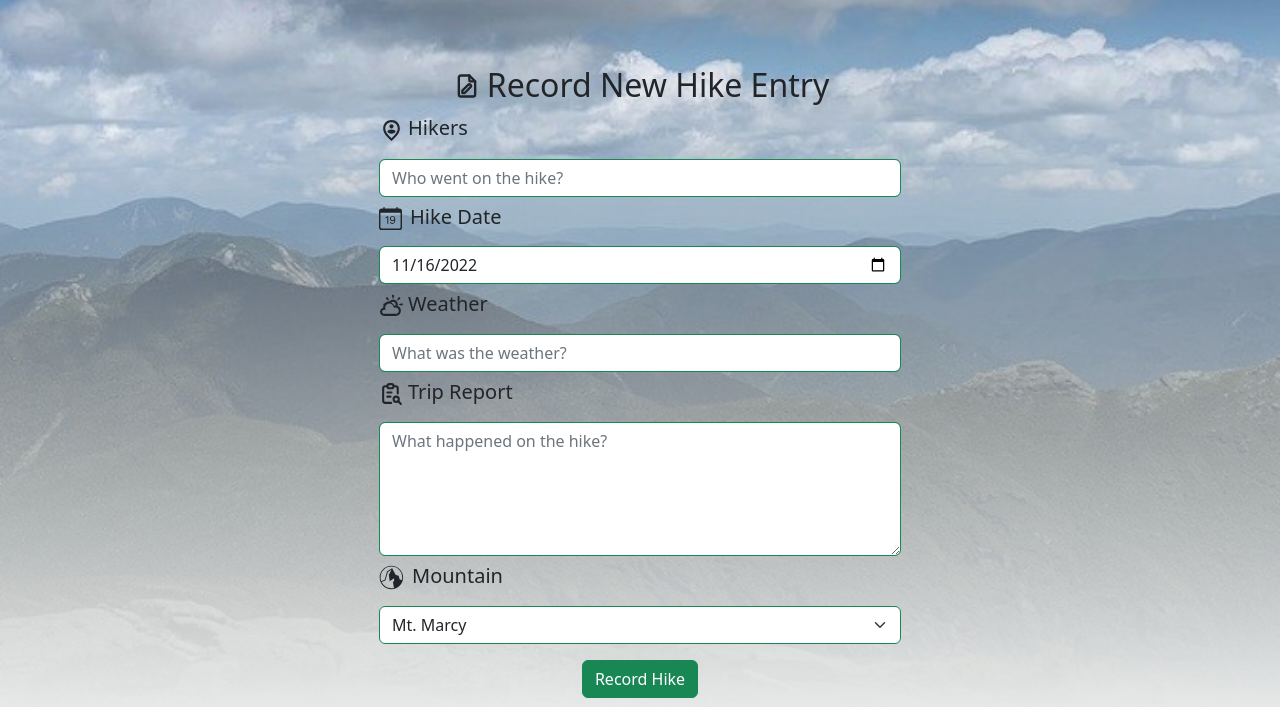
Scenario: RecordHike component testing › should alert the user that trip report is required to submit if input is empty
The image size is (1280, 707).
Type "Jason" into the field with placeholder "Who went on the hike?" at (640, 178), box [379,159,901,197]
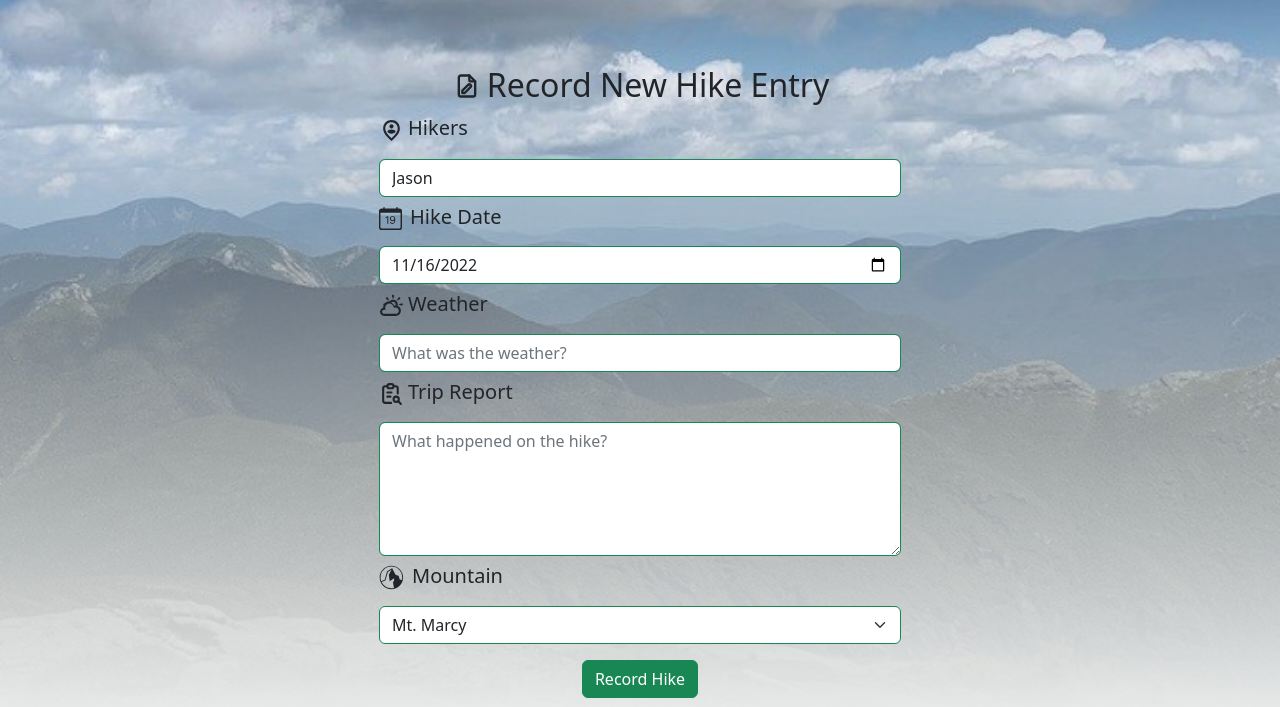
Type "2022-10-10" into the date field labelled "Hike Date" at (640, 265), box [379,246,901,284]
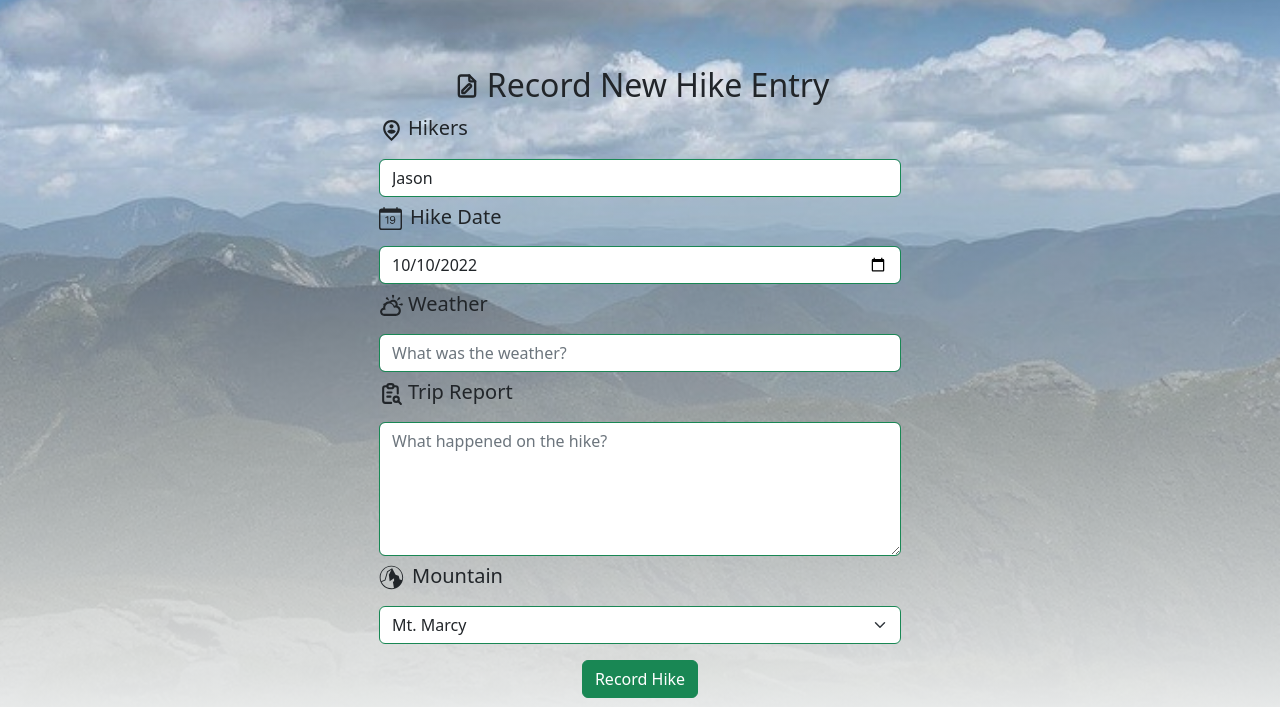
Type "Sunny" into the field with placeholder "What was the weather?" at (640, 353), box [379,334,901,372]
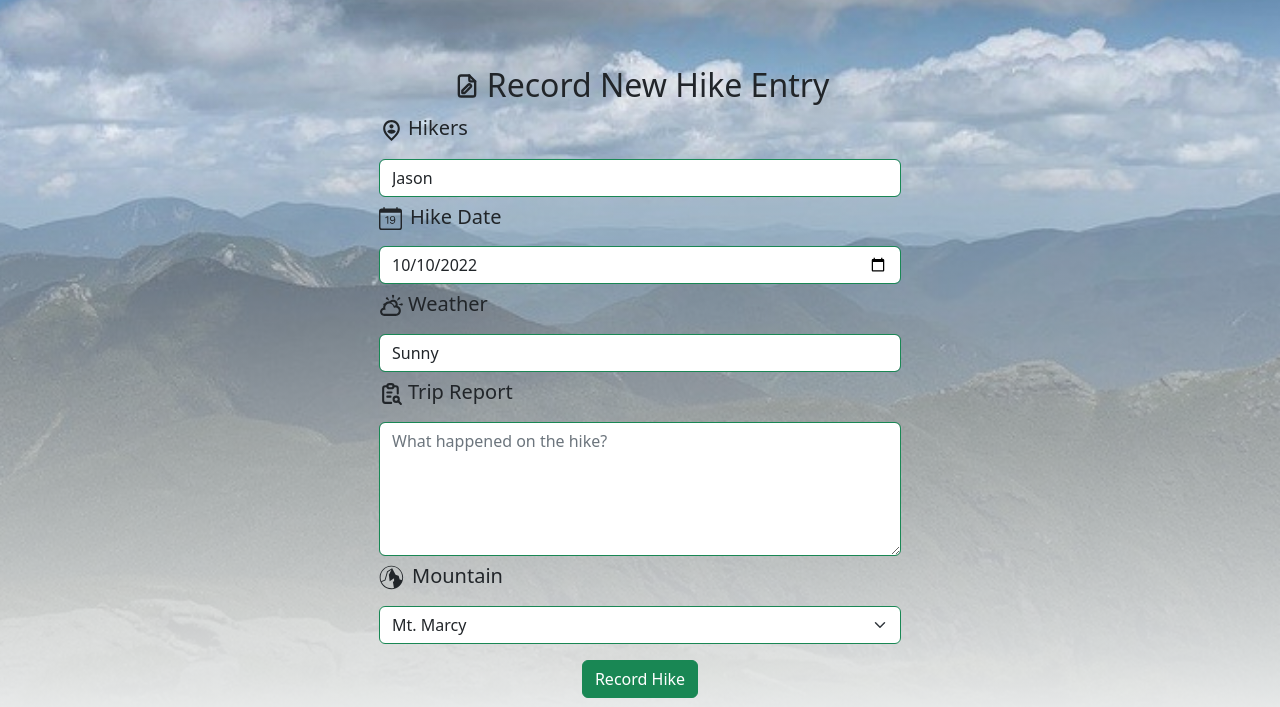
Click the button "Record Hike" at (640, 679), box [582,660,698,698]
(page scrolled)
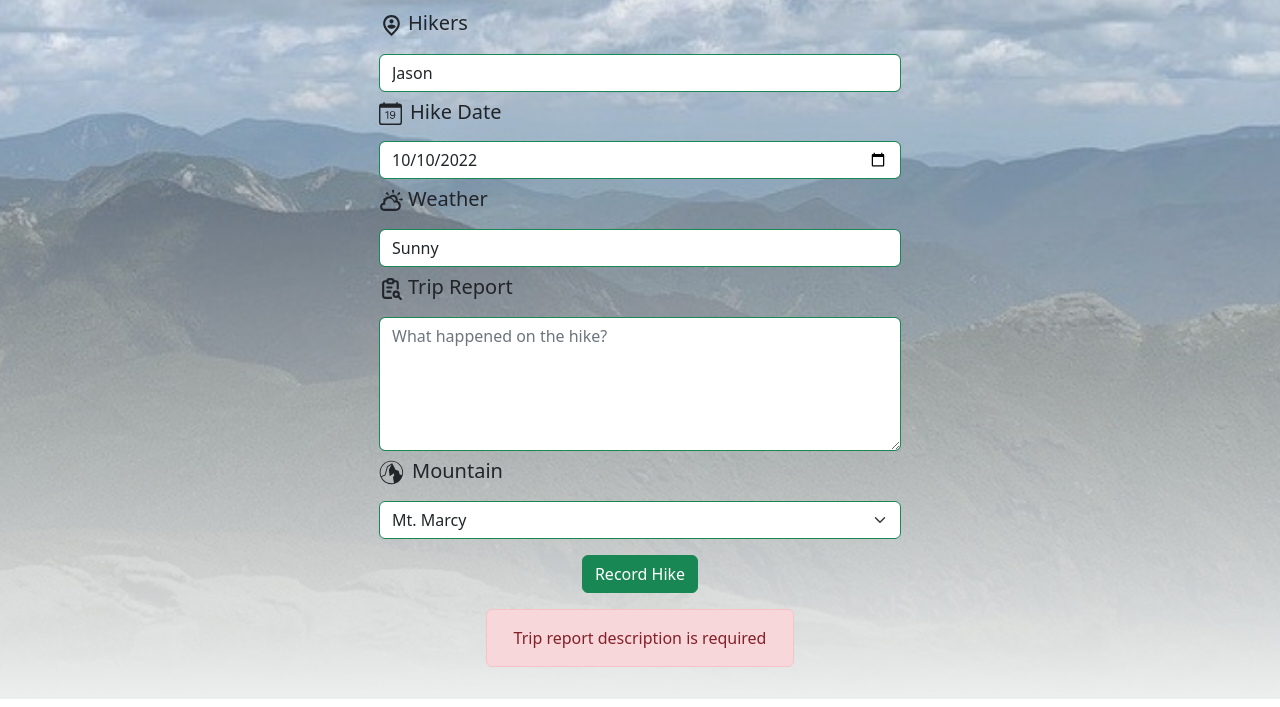
Check: the text "Trip report description is required" is shown, box [486,609,794,667]
